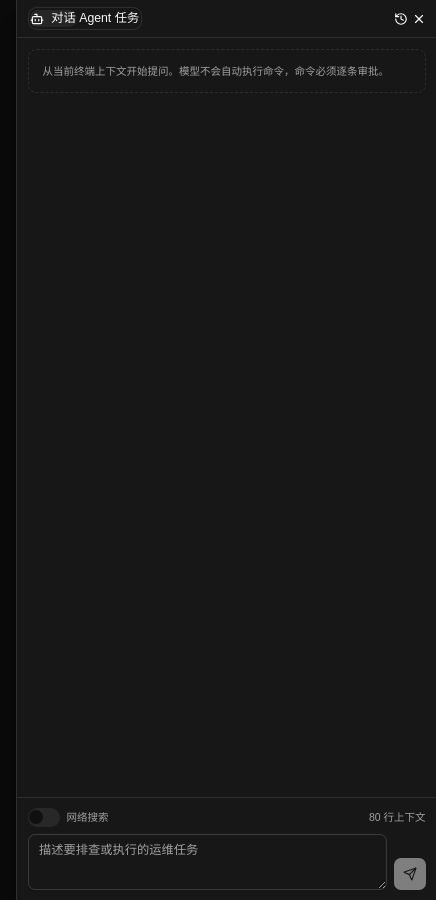
AITerminalPanel › shows conversation history load failures inline without toast
Click the button named "对话历史".
click(401, 18)  # box [394,12,408,26]
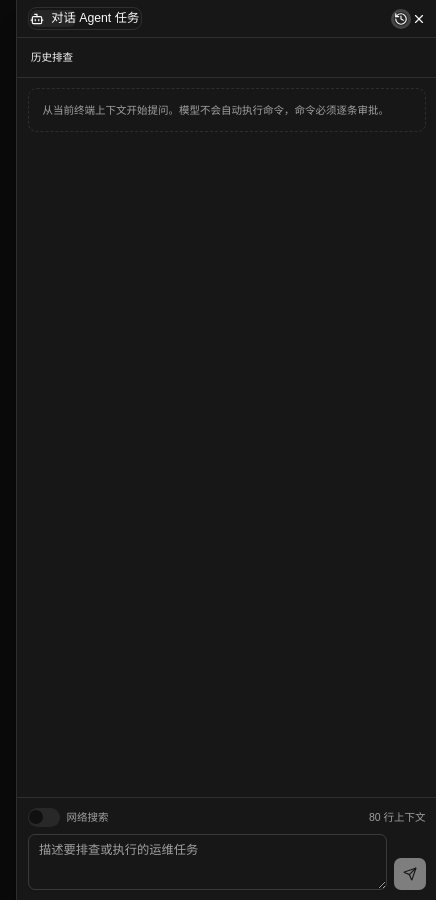
Click the button "历史排查".
click(52, 57)  # box [24,45,429,70]
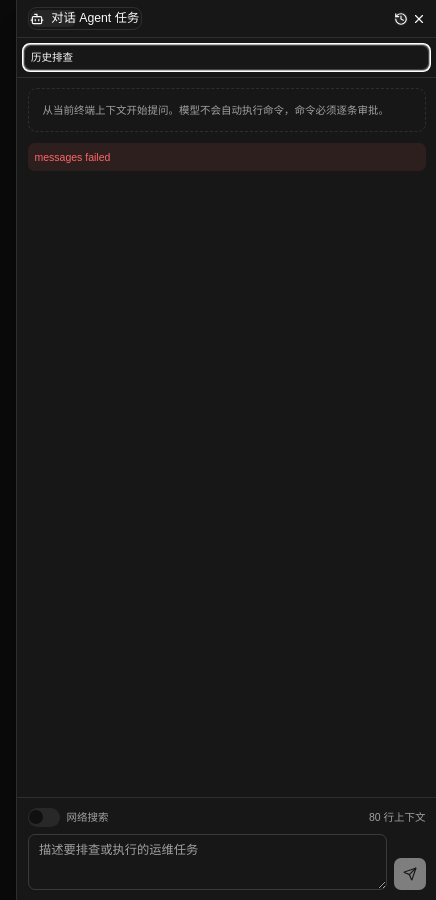
Expected: the text "messages failed" is shown, [28,142,426,170]
